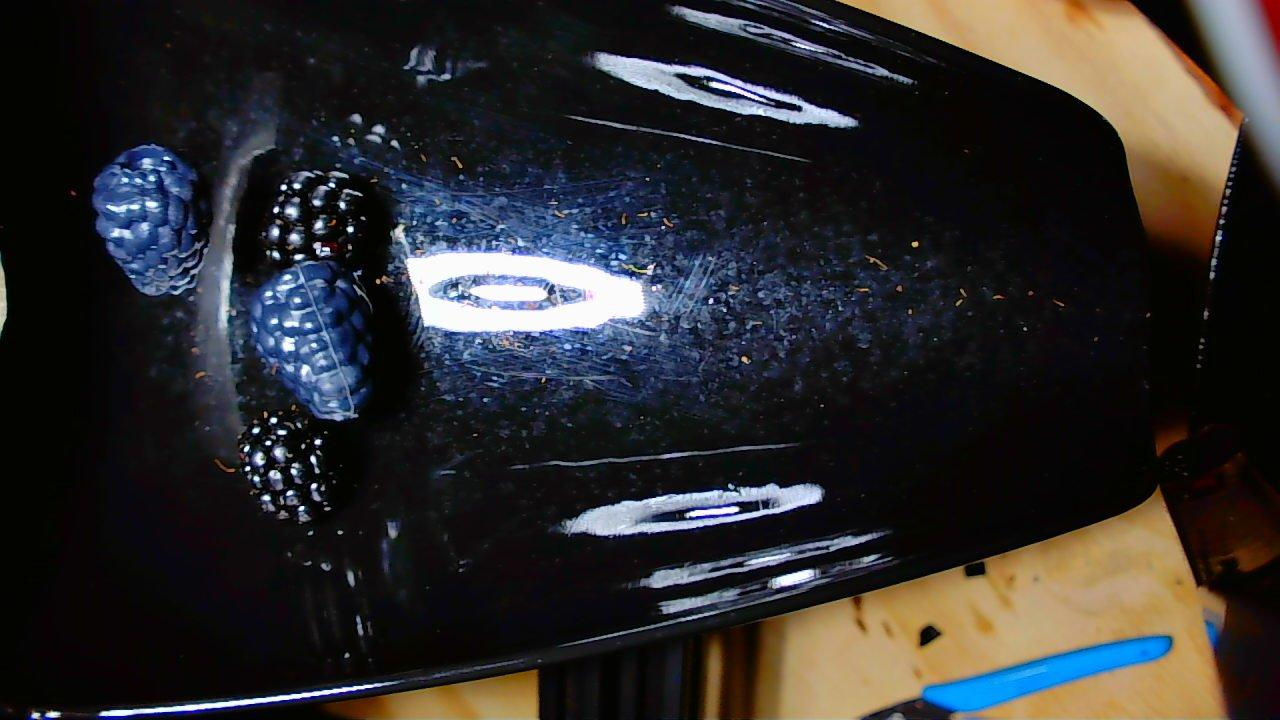berry: (250, 262, 372, 420), (92, 145, 208, 295), (239, 408, 344, 523), (262, 170, 367, 267)
